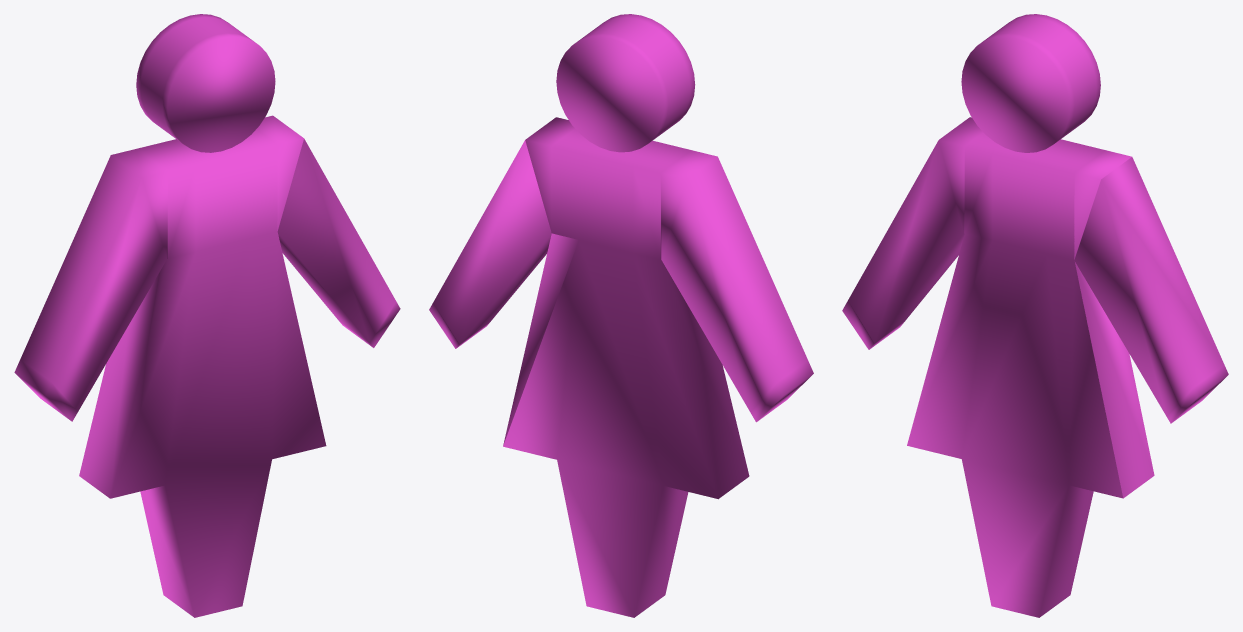
File: Female_Toilet.fbx
The picture shows the model from 3 angles, left to right: view 1: azimuth 30°, elevation 25°; view 2: azimuth 150°, elevation 25°; view 3: azimuth 330°, elevation 25°; orthographic projection.
Visible parts, largest first — view 1: Female; view 2: Female; view 3: Female.
Part boxes in pixels (x1,y1,x2,y2): Female: (14,14,400,617); Female: (429,14,813,617); Female: (842,14,1228,617).
Size of the model in its own units: 657 by 1016 by 104.
